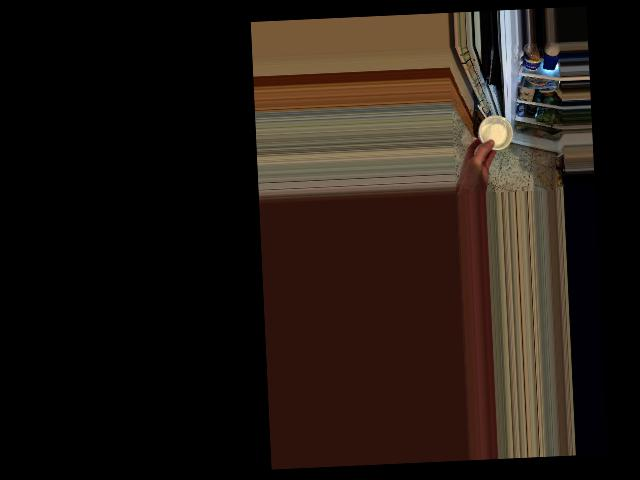cotage: (474, 114, 510, 151)
